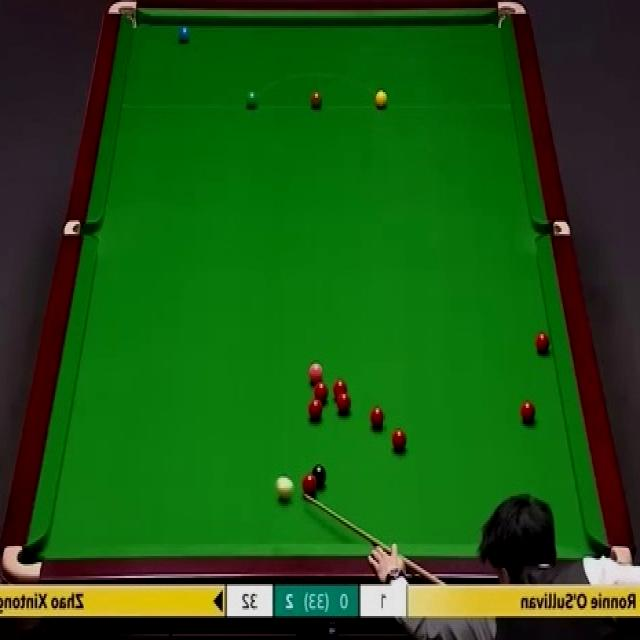pocket: (2, 542, 47, 584), (494, 1, 528, 32), (109, 0, 138, 31), (62, 220, 99, 238), (535, 220, 569, 238)
